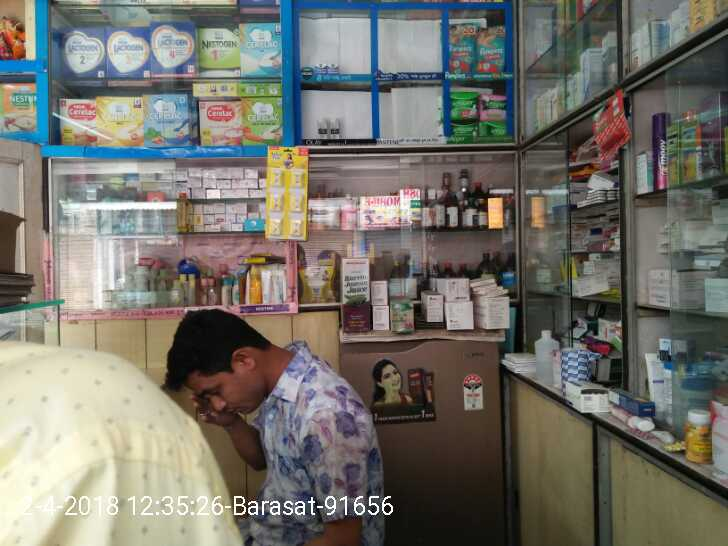vicks: (316, 61, 339, 73)
